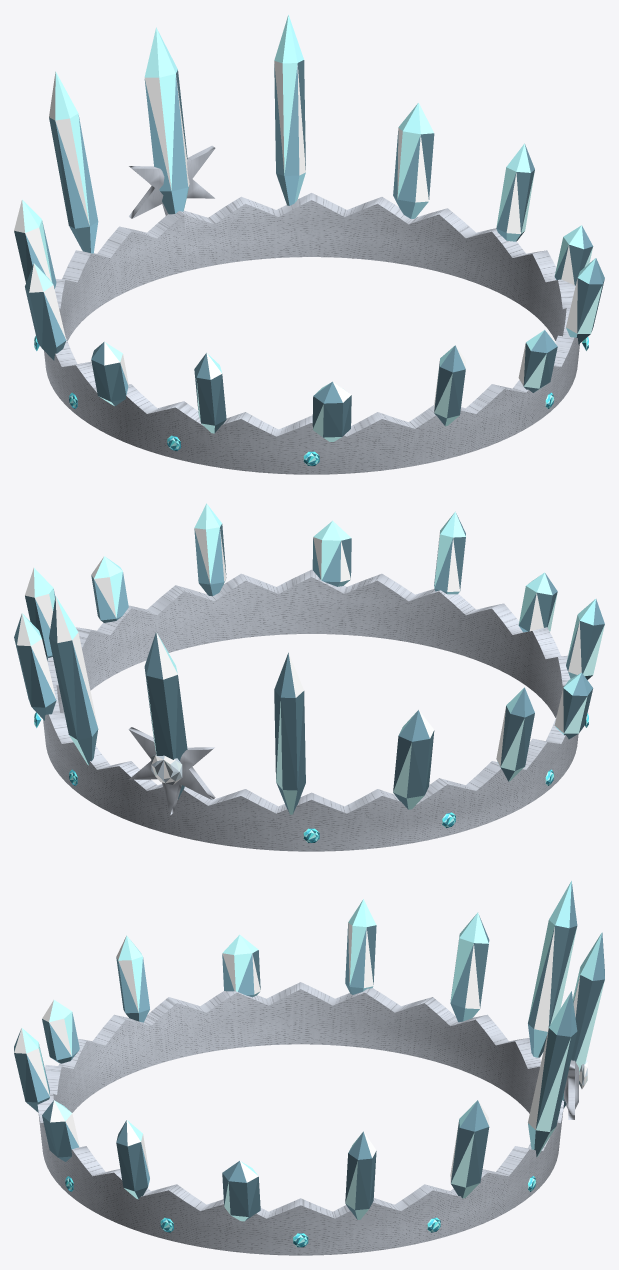
Rendered from FrostQueensCrown.glb.
3 renders of one model, top to bottom at view 1: azimuth 30°, elevation 25°; view 2: azimuth 150°, elevation 25°; view 3: azimuth 270°, elevation 25°, orthographic. The views are drawn at different scales.
Parts seen in each view (by area): view 1: FrostQueensCrown; view 2: FrostQueensCrown; view 3: FrostQueensCrown.
Boxes of the visible parts, x1,y1,x2,y2 form: FrostQueensCrown: (14,14,604,474); FrostQueensCrown: (14,503,604,851); FrostQueensCrown: (14,881,604,1255).
Size of the model in its own units: 1.36 by 0.5691 by 1.42.
1 material, 1 textured.
